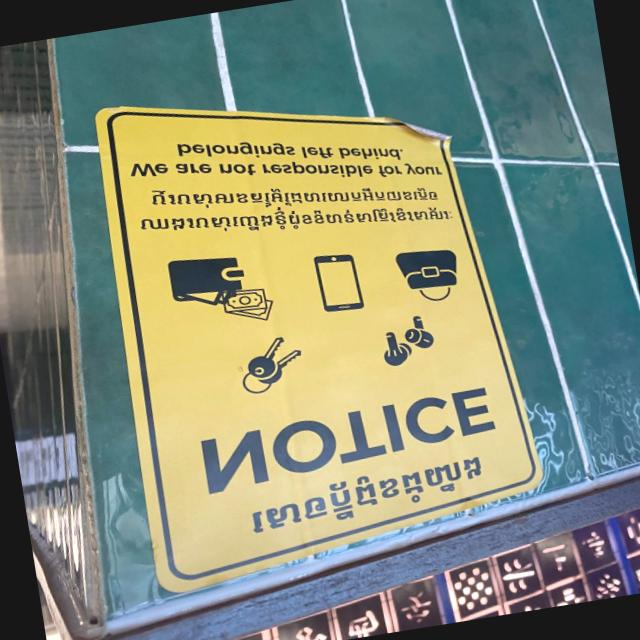Yolov11kh: (233, 443, 502, 552), (136, 205, 458, 240), (146, 184, 445, 209)
